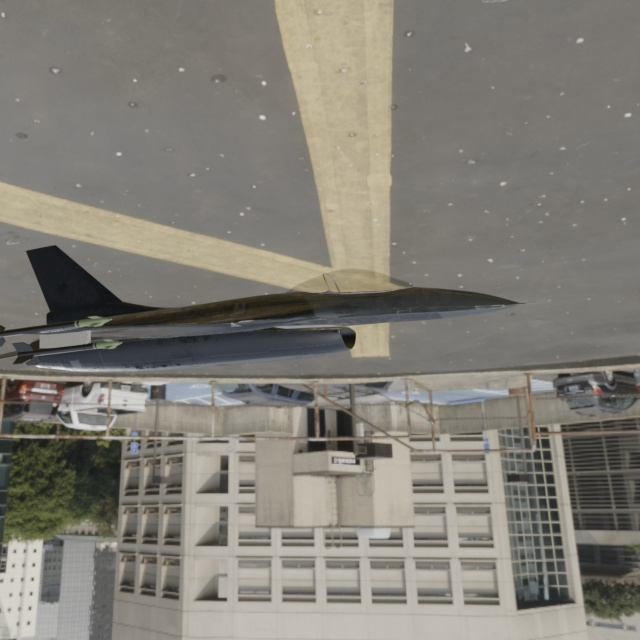model: (0, 86, 570, 387)
